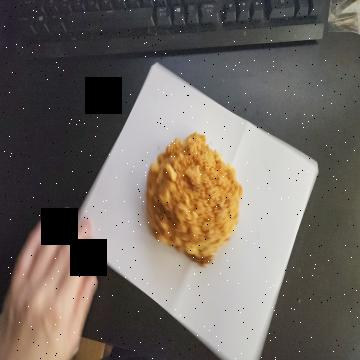soboru_bread: (145, 134, 239, 268)
